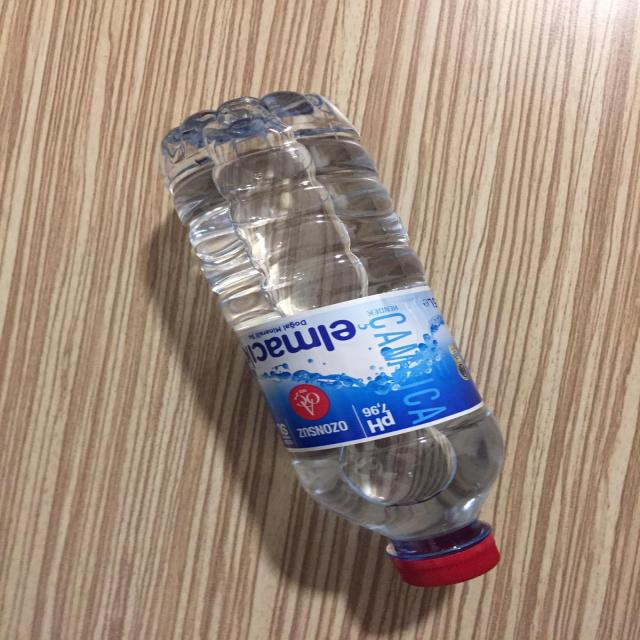bottle: (140, 98, 569, 592)
